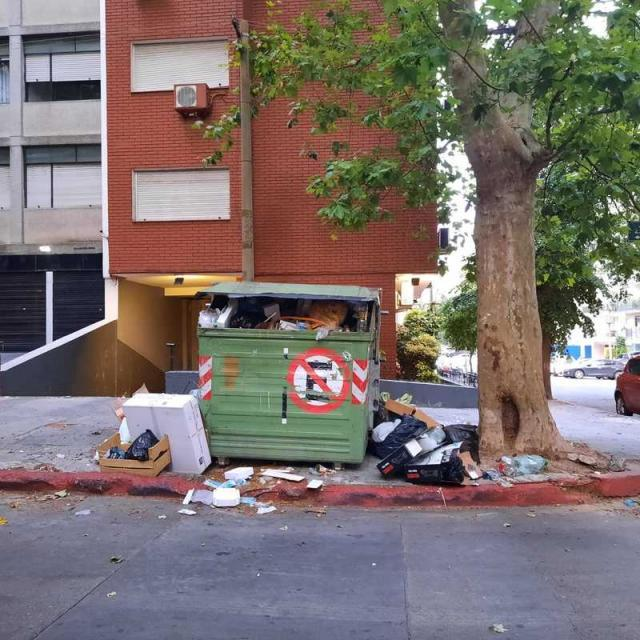garbage: (374, 388, 479, 502), (98, 380, 214, 480), (191, 290, 400, 343), (212, 458, 330, 514), (480, 452, 552, 484)
